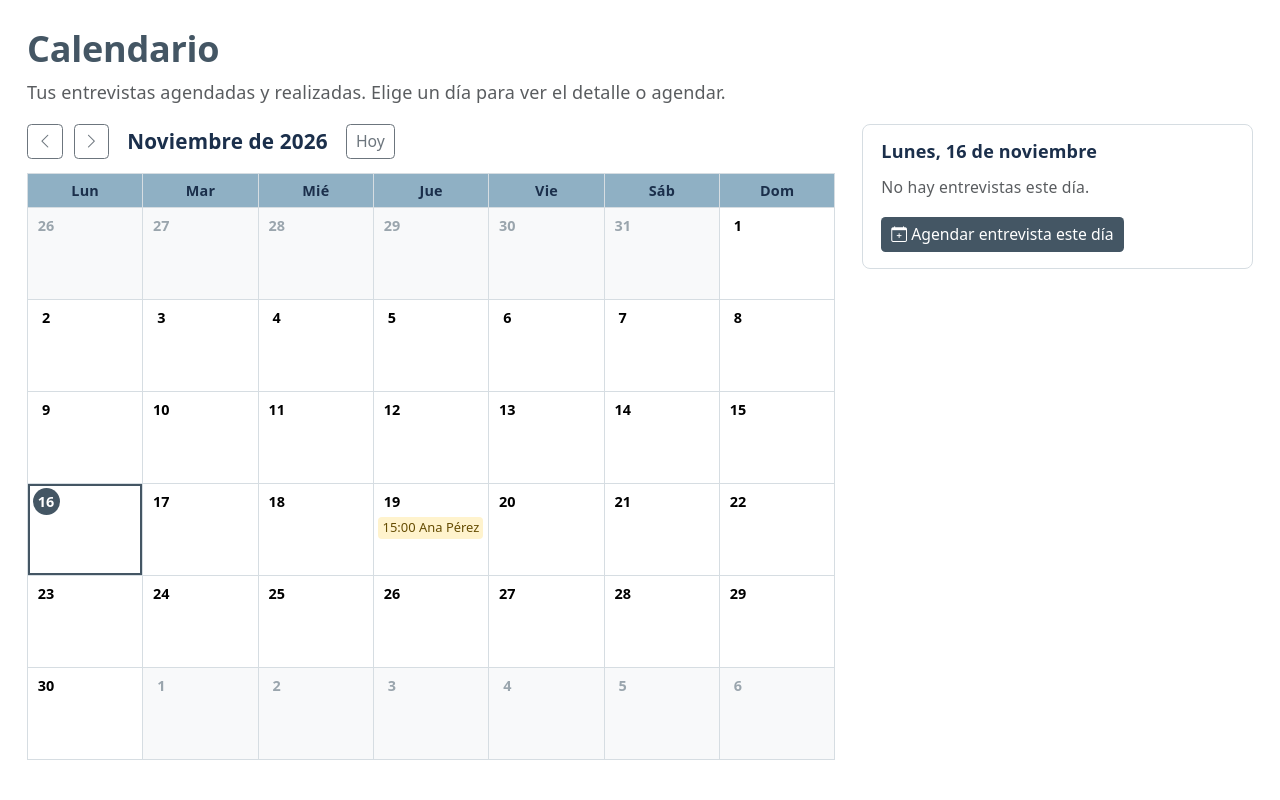
Test: Calendario › cambia de mes y vuelve a consultar
The width and height of the screenshot is (1280, 800).
Expected: the text "15:00 Ana Pérez" is shown, x1=378 y1=517 x2=483 y2=538
Step 1. Click the button named "Mes siguiente" → (91, 142), box x1=74 y1=124 x2=109 y2=159
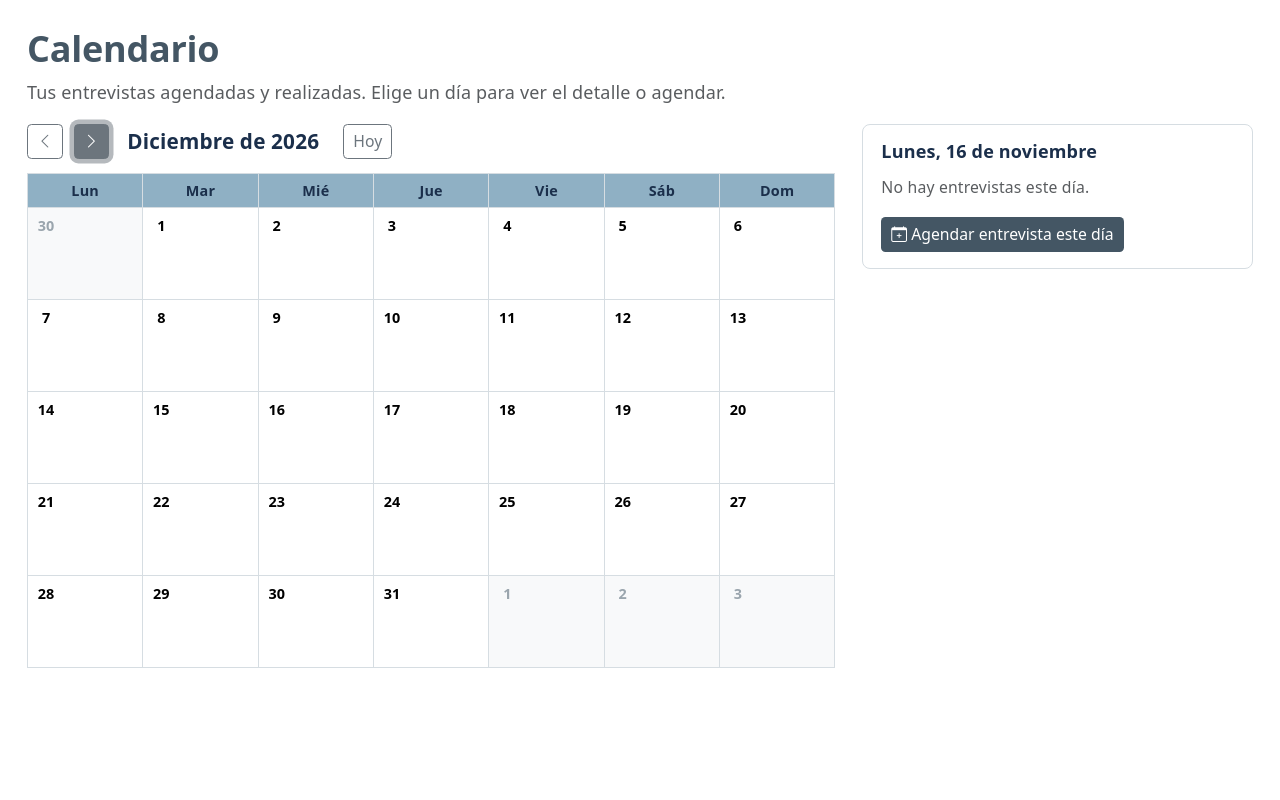
Expected: the heading "Diciembre de 2026" is shown, x1=127 y1=129 x2=325 y2=154
